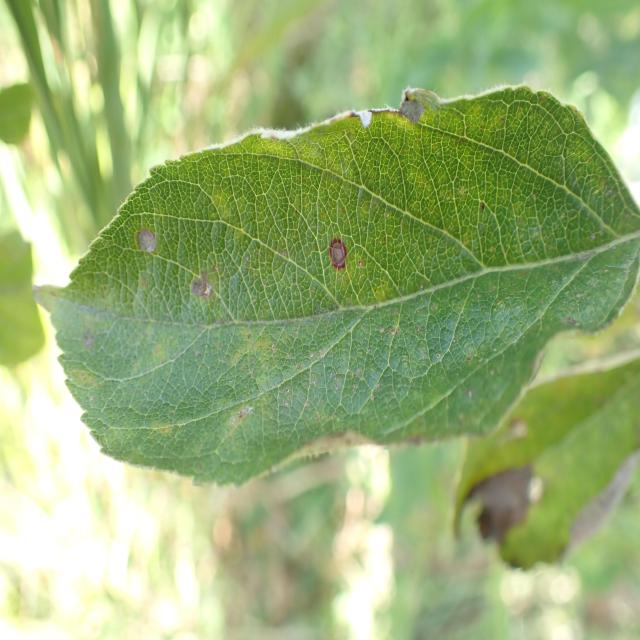frog-eye-leaf-spot: (32, 84, 640, 490)
